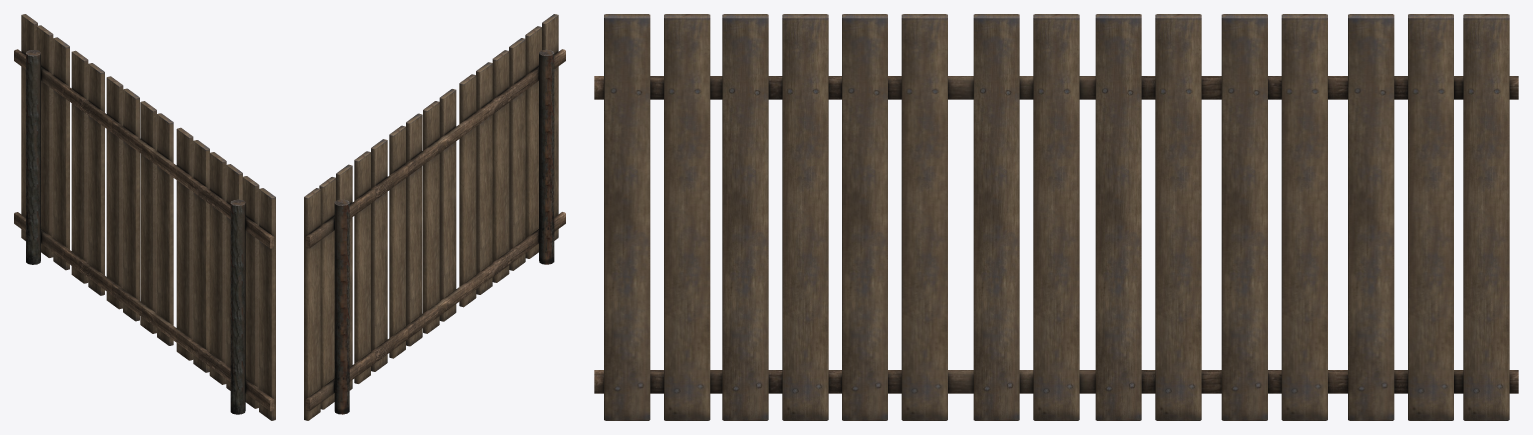
The model's file is fence_picket.glb.
The picture shows the model from 3 angles, left to right: view 1: azimuth 30°, elevation 25°; view 2: azimuth 150°, elevation 25°; view 3: azimuth 270°, elevation 25°; orthographic projection. The views are drawn at different scales.
Parts seen in each view (by area): view 1: fence_picket; view 2: fence_picket; view 3: fence_picket.
Boxes of the visible parts, <box> form: fence_picket: <box>14,14,275,420</box>; fence_picket: <box>304,14,565,420</box>; fence_picket: <box>594,14,1518,420</box>.
Bounding box in the file's own units: 0.4946 × 5 × 10.19.
Materials: 1 (1 with a texture image).
